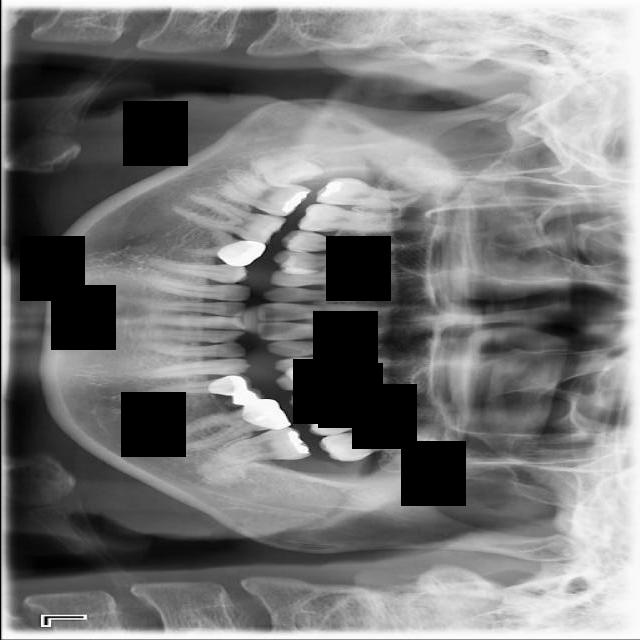52: (204, 361, 296, 445), (256, 174, 314, 229), (260, 415, 314, 472), (218, 228, 269, 279), (314, 176, 367, 207)
73: (50, 610, 54, 614)
BioHorizons Implant: (317, 419, 456, 465)
Blue Sky Bio Implant: (200, 424, 311, 471)
Caries: (312, 174, 459, 219)
Implant: (214, 168, 312, 223)
Keystone Dental Implant: (252, 141, 325, 193)
